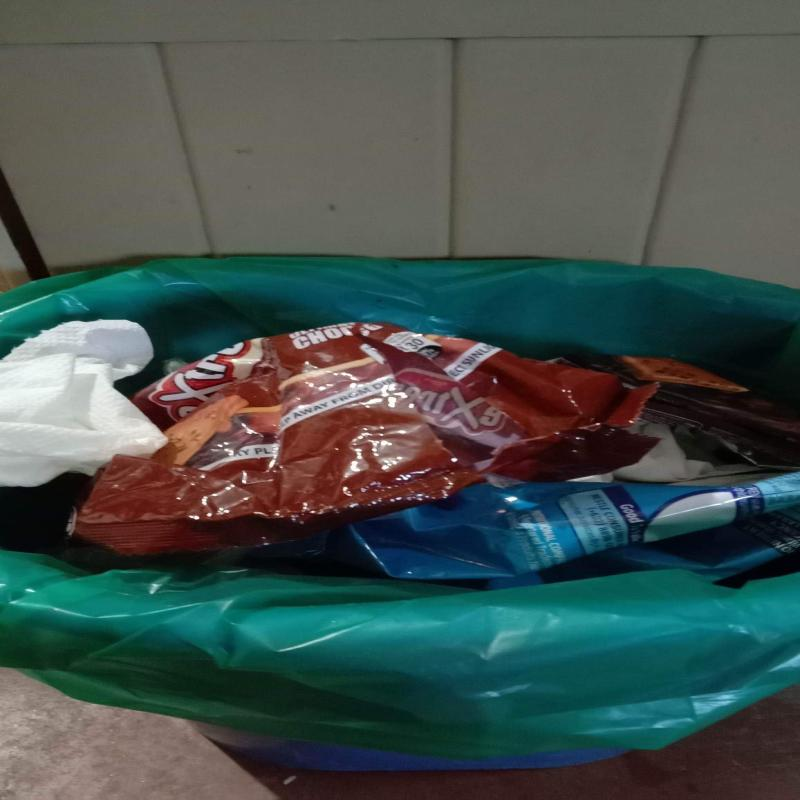food wrapper: (69, 318, 754, 555), (353, 466, 800, 586)
plastic bag: (0, 319, 173, 486)
